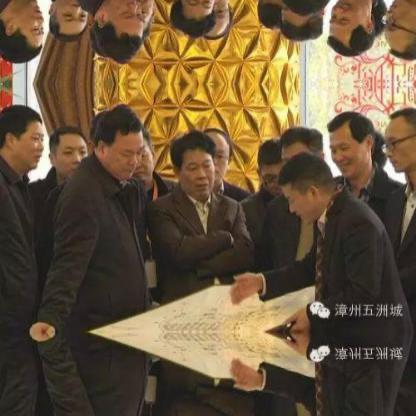head: (90, 104, 144, 180), (279, 146, 333, 218), (326, 107, 379, 176), (90, 0, 145, 63), (0, 104, 49, 173), (325, 0, 379, 61), (170, 132, 219, 196), (0, 0, 49, 63), (377, 104, 413, 176), (377, 0, 414, 64), (47, 124, 90, 174), (46, 0, 90, 43), (280, 124, 323, 166), (280, 1, 323, 43), (130, 126, 158, 190), (169, 0, 219, 35), (255, 139, 286, 194), (205, 126, 231, 184), (130, 0, 159, 42), (279, 0, 334, 22), (205, 0, 232, 42), (254, 0, 286, 29)
